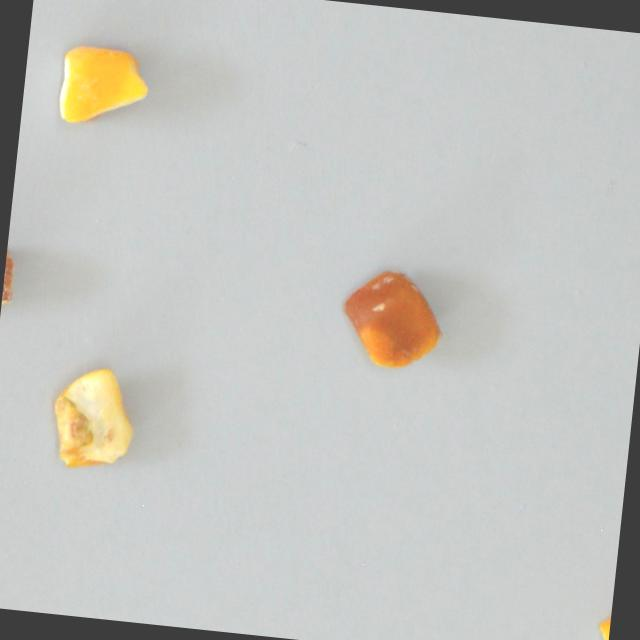dañado: (335, 258, 449, 379), (35, 357, 148, 477), (55, 41, 152, 131), (0, 245, 19, 329)
